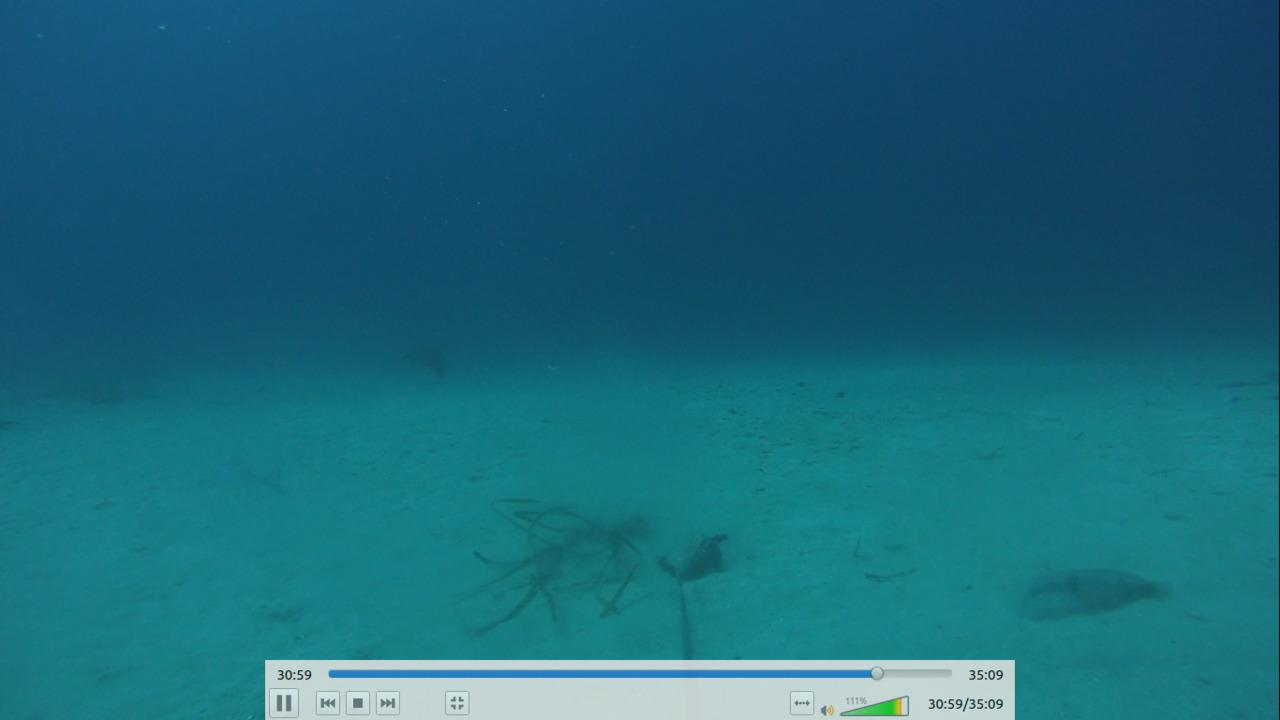raor: (1008, 560, 1177, 624)
